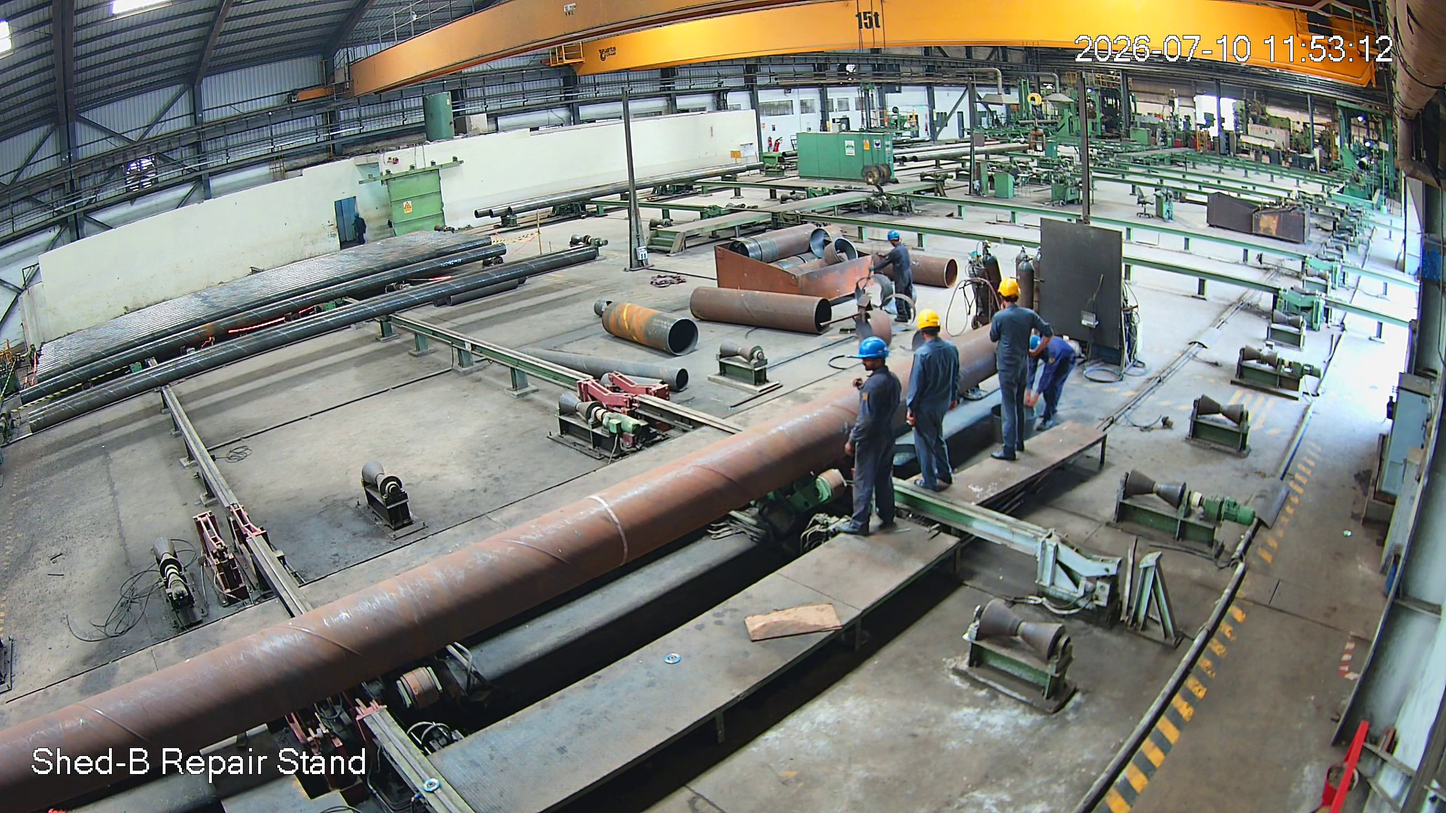Helmet: (851, 328, 895, 382), (988, 274, 1026, 321), (910, 302, 943, 346), (882, 226, 908, 250)
Person: (835, 333, 899, 548), (981, 276, 1049, 469), (906, 305, 953, 495), (878, 229, 922, 325)
